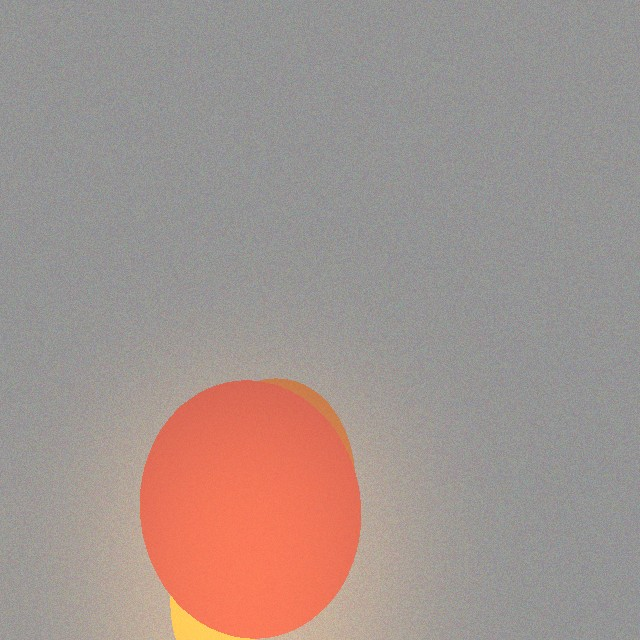fire: (148, 481, 346, 591)
